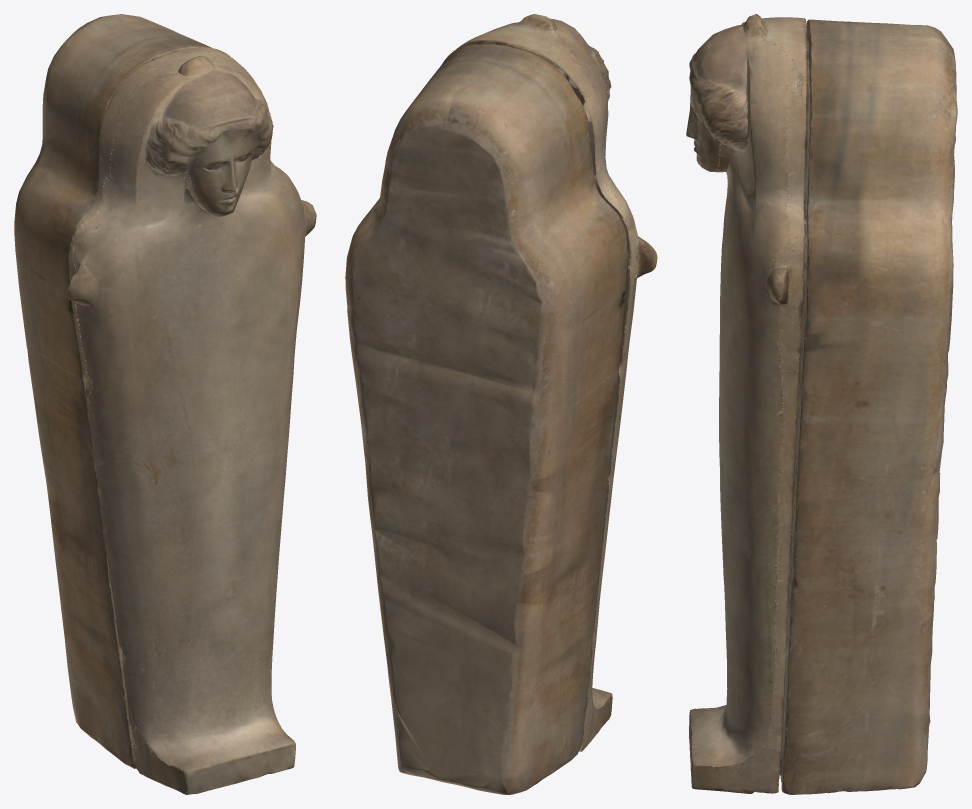
File: preview.glb
3 views of the same model, side by side, from view 1: azimuth 30°, elevation 25°; view 2: azimuth 150°, elevation 25°; view 3: azimuth 270°, elevation 25° (orthographic). The views are drawn at different scales.
Visible parts, largest first — view 1: Polygonal_Model_2_ADVIMG_74_51_2452_MarbleAnthropoidSarcopha; view 2: Polygonal_Model_2_ADVIMG_74_51_2452_MarbleAnthropoidSarcopha; view 3: Polygonal_Model_2_ADVIMG_74_51_2452_MarbleAnthropoidSarcopha.
Part boxes in pixels (x1,y1,x2,y2): Polygonal_Model_2_ADVIMG_74_51_2452_MarbleAnthropoidSarcopha: (14,14,316,794); Polygonal_Model_2_ADVIMG_74_51_2452_MarbleAnthropoidSarcopha: (345,14,657,794); Polygonal_Model_2_ADVIMG_74_51_2452_MarbleAnthropoidSarcopha: (686,14,957,794).
Bounding box in the file's own units: 0.858 × 2.34 × 0.7616.
2 materials, 2 textured.
